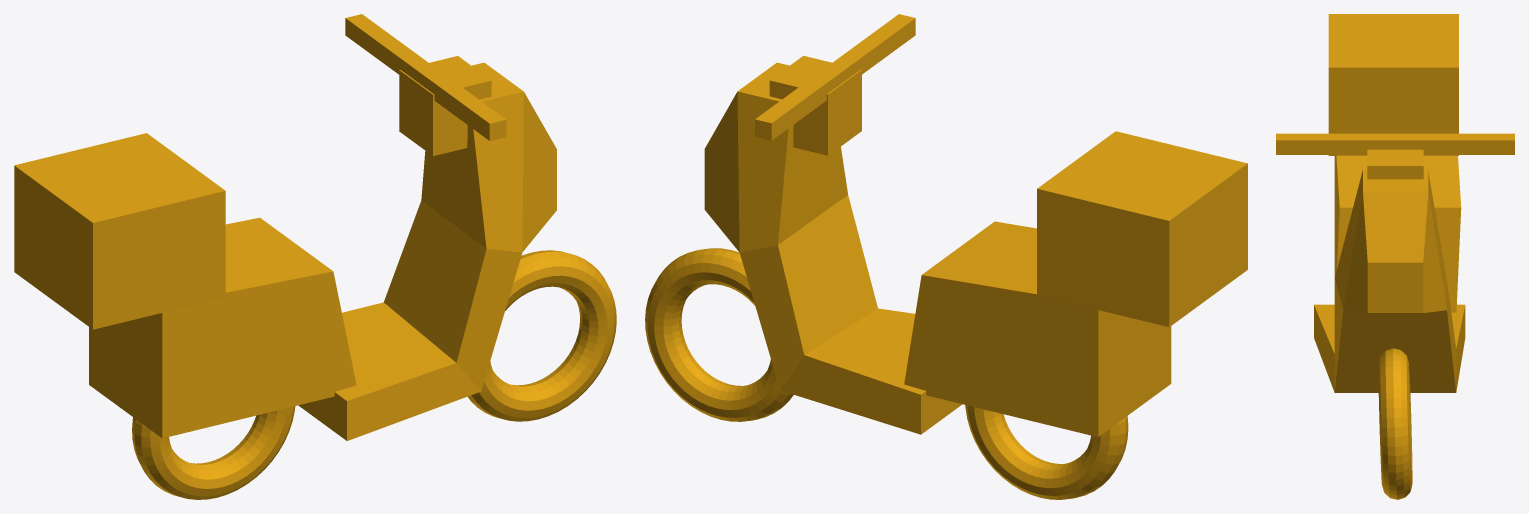
The model's file is bike.fbx.
3 renders of one model, left to right at view 1: azimuth 30°, elevation 25°; view 2: azimuth 150°, elevation 25°; view 3: azimuth 270°, elevation 25°, orthographic. The views are drawn at different scales.
Parts seen in each view (by area): view 1: Cube.006; view 2: Cube.006; view 3: Cube.006.
Part boxes in pixels (box(x1,y1,x2,y2)): Cube.006: box(14, 14, 616, 499); Cube.006: box(645, 14, 1247, 499); Cube.006: box(1276, 14, 1514, 499).
Size of the model in its own units: 8.83 by 5.66 by 3.93.
